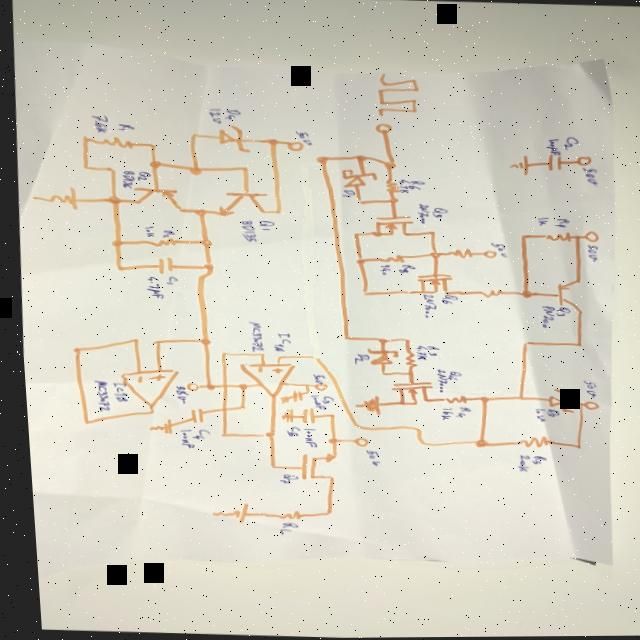capacitor: (149, 256, 173, 275), (540, 155, 562, 172), (182, 407, 200, 424), (292, 407, 310, 424), (285, 389, 298, 401)
crossover: (213, 406, 224, 412), (214, 383, 224, 389)
diode: (214, 124, 250, 153), (336, 169, 376, 189), (539, 388, 569, 414), (359, 348, 395, 367)
ground: (27, 184, 78, 210), (204, 502, 244, 523), (346, 394, 376, 416), (504, 154, 530, 177), (141, 418, 167, 434), (272, 408, 288, 423), (273, 395, 283, 404)
junction: (197, 260, 213, 272), (103, 194, 120, 205), (185, 164, 201, 175), (380, 160, 394, 170), (514, 290, 529, 299), (351, 153, 366, 162), (263, 137, 277, 146), (195, 238, 209, 247), (106, 238, 120, 247), (255, 431, 270, 439), (145, 161, 160, 169), (193, 336, 207, 344), (313, 155, 327, 163), (190, 208, 204, 216), (343, 423, 357, 431), (424, 251, 437, 259), (66, 345, 79, 353), (123, 336, 136, 344), (198, 382, 210, 390), (351, 257, 363, 265), (77, 134, 89, 142), (231, 382, 243, 390), (109, 264, 122, 271), (383, 198, 397, 204), (77, 164, 89, 171), (320, 437, 332, 444), (144, 142, 157, 148), (405, 427, 418, 433), (146, 339, 158, 345), (515, 341, 527, 347), (472, 396, 484, 402), (102, 166, 114, 172), (236, 166, 248, 172), (304, 354, 316, 360), (410, 440, 422, 446), (353, 199, 363, 206), (356, 290, 367, 296), (261, 464, 272, 470), (347, 231, 358, 237), (213, 350, 224, 356), (510, 395, 520, 401), (231, 404, 241, 410), (568, 342, 578, 348), (316, 510, 326, 516), (372, 337, 382, 343), (187, 132, 197, 138), (76, 419, 86, 425), (423, 230, 433, 236), (373, 370, 383, 376), (270, 208, 280, 214), (268, 354, 278, 360), (515, 234, 524, 240), (337, 334, 346, 340), (398, 337, 407, 343), (213, 431, 222, 437), (568, 444, 576, 449), (322, 413, 330, 418), (569, 235, 577, 240), (140, 409, 149, 413), (400, 372, 409, 376), (298, 389, 306, 393), (252, 353, 260, 357), (571, 402, 577, 407), (297, 383, 304, 387)
resistor: (93, 135, 133, 149), (508, 435, 543, 449), (140, 236, 172, 247), (538, 231, 568, 242), (379, 178, 398, 195), (268, 510, 295, 521), (447, 247, 471, 259), (398, 351, 414, 369), (371, 254, 401, 263), (474, 289, 500, 299), (436, 395, 461, 405)
terminal: (371, 122, 392, 135), (578, 231, 596, 244), (571, 155, 590, 167), (283, 140, 302, 151), (345, 437, 364, 448), (576, 400, 593, 411), (179, 381, 195, 392), (477, 250, 494, 259), (307, 382, 322, 392)
text: (85, 379, 106, 412), (242, 320, 260, 353), (138, 275, 160, 299), (265, 331, 288, 353), (86, 113, 110, 134), (235, 219, 255, 242), (105, 380, 124, 402), (535, 305, 552, 328), (417, 294, 433, 318), (116, 170, 135, 189), (269, 521, 292, 536), (428, 370, 443, 393), (541, 137, 559, 156), (578, 168, 596, 187), (173, 429, 190, 449), (206, 107, 226, 124), (412, 204, 428, 224), (485, 242, 505, 258), (358, 449, 375, 467), (296, 428, 312, 447), (302, 394, 321, 410), (168, 386, 184, 404), (577, 380, 593, 398), (292, 131, 311, 146), (271, 472, 292, 485), (560, 136, 578, 151), (509, 455, 524, 472), (581, 245, 595, 263), (435, 294, 456, 306), (347, 352, 365, 366), (427, 206, 446, 219), (185, 428, 205, 440), (448, 406, 466, 419), (254, 219, 272, 232), (549, 217, 567, 229), (433, 407, 448, 421), (409, 345, 423, 360), (393, 263, 412, 274), (404, 180, 423, 191), (394, 179, 408, 193), (550, 306, 567, 317), (221, 109, 238, 120), (527, 408, 540, 422), (373, 264, 388, 276), (113, 123, 133, 132), (160, 275, 176, 286), (279, 426, 294, 437), (524, 455, 540, 465), (139, 225, 152, 237), (306, 374, 321, 384), (441, 371, 456, 381), (532, 216, 546, 226), (421, 346, 435, 356), (134, 171, 148, 181), (337, 189, 352, 198), (467, 439, 481, 448), (314, 396, 329, 404), (539, 409, 554, 417), (158, 230, 172, 238)
transistor: (211, 189, 268, 218), (127, 185, 182, 211), (291, 451, 334, 480), (383, 380, 429, 407), (365, 214, 412, 238), (549, 279, 580, 314), (410, 273, 450, 296)
